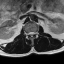CCS_normal: (30, 29, 32, 39)
LFS_normal: (34, 29, 36, 36)
LLS_normal: (32, 29, 34, 37)
RFS_normal: (26, 30, 28, 37)
RLS_normal: (28, 30, 30, 37)
